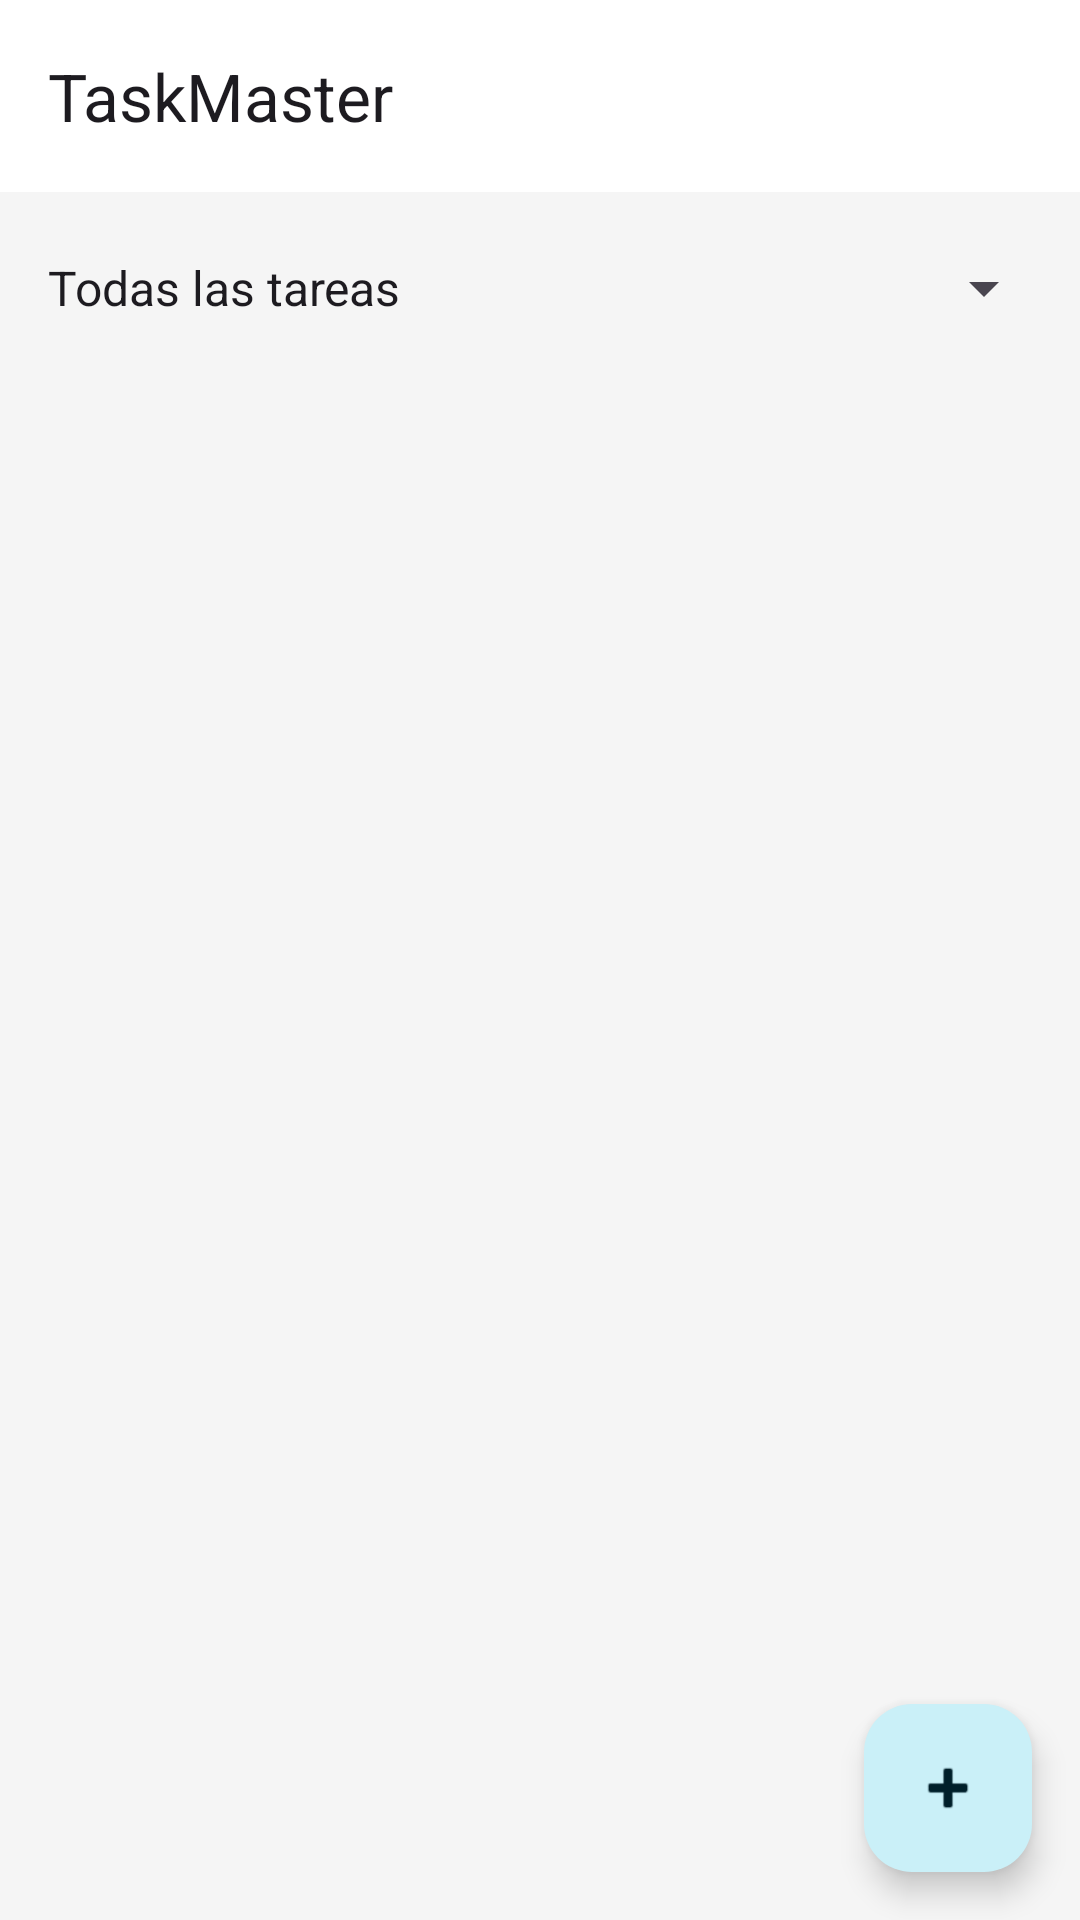

Screen size 1080*1920. Icon name, then its center in pixels as [x,y]:
Agregar nueva tarea: [948,1788]
